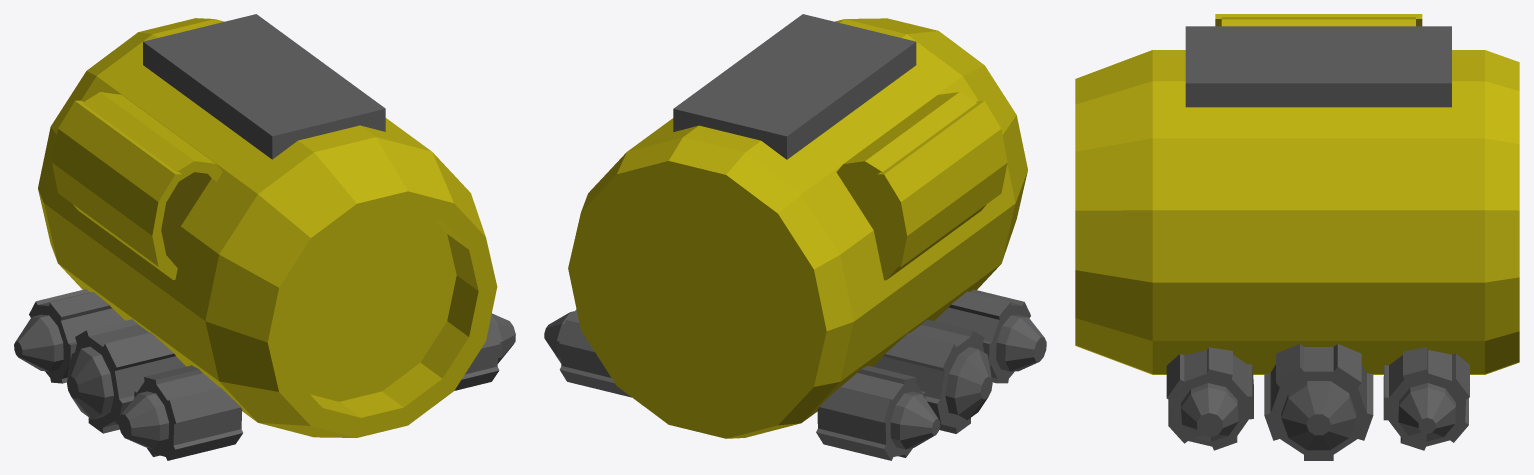
Rendered from drill.machine.1.fbx.
3 views of the same model, side by side, from view 1: azimuth 30°, elevation 25°; view 2: azimuth 150°, elevation 25°; view 3: azimuth 270°, elevation 25° (orthographic). The views are drawn at different scales.
Parts seen in each view (by area): view 1: Cylinder, Cylinder.003, Cube, Cylinder.001, Cylinder.005; view 2: Cylinder, Cylinder.003, Cube, Cylinder.001; view 3: Cylinder, Cylinder.003, Cube, Cylinder.001.
Boxes of the visible parts, x1,y1,x2,y2 form: Cylinder: [38, 18, 497, 437]; Cylinder.003: [14, 289, 515, 460]; Cube: [143, 14, 385, 159]; Cylinder.001: [52, 92, 222, 279]; Cylinder.005: [161, 172, 211, 262]; Cylinder: [568, 18, 1027, 438]; Cylinder.003: [544, 289, 1046, 460]; Cube: [673, 14, 916, 159]; Cylinder.001: [836, 92, 1007, 280]; Cylinder: [1075, 50, 1519, 374]; Cylinder.003: [1166, 344, 1469, 460]; Cube: [1185, 26, 1451, 107]; Cylinder.001: [1215, 14, 1422, 26].
Size of the model in its own units: 277 by 213 by 267.
